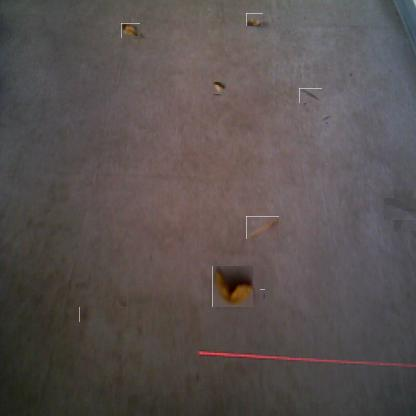dirty: (212, 265, 253, 307), (246, 216, 279, 239), (121, 23, 140, 38), (246, 13, 263, 26), (212, 82, 226, 94)
mark: (388, 192, 416, 225), (301, 86, 320, 105), (79, 306, 90, 322), (115, 297, 127, 307), (192, 372, 200, 386), (135, 322, 143, 336), (320, 113, 330, 124), (260, 289, 266, 300), (149, 252, 153, 264), (347, 70, 354, 76), (303, 14, 307, 22)
